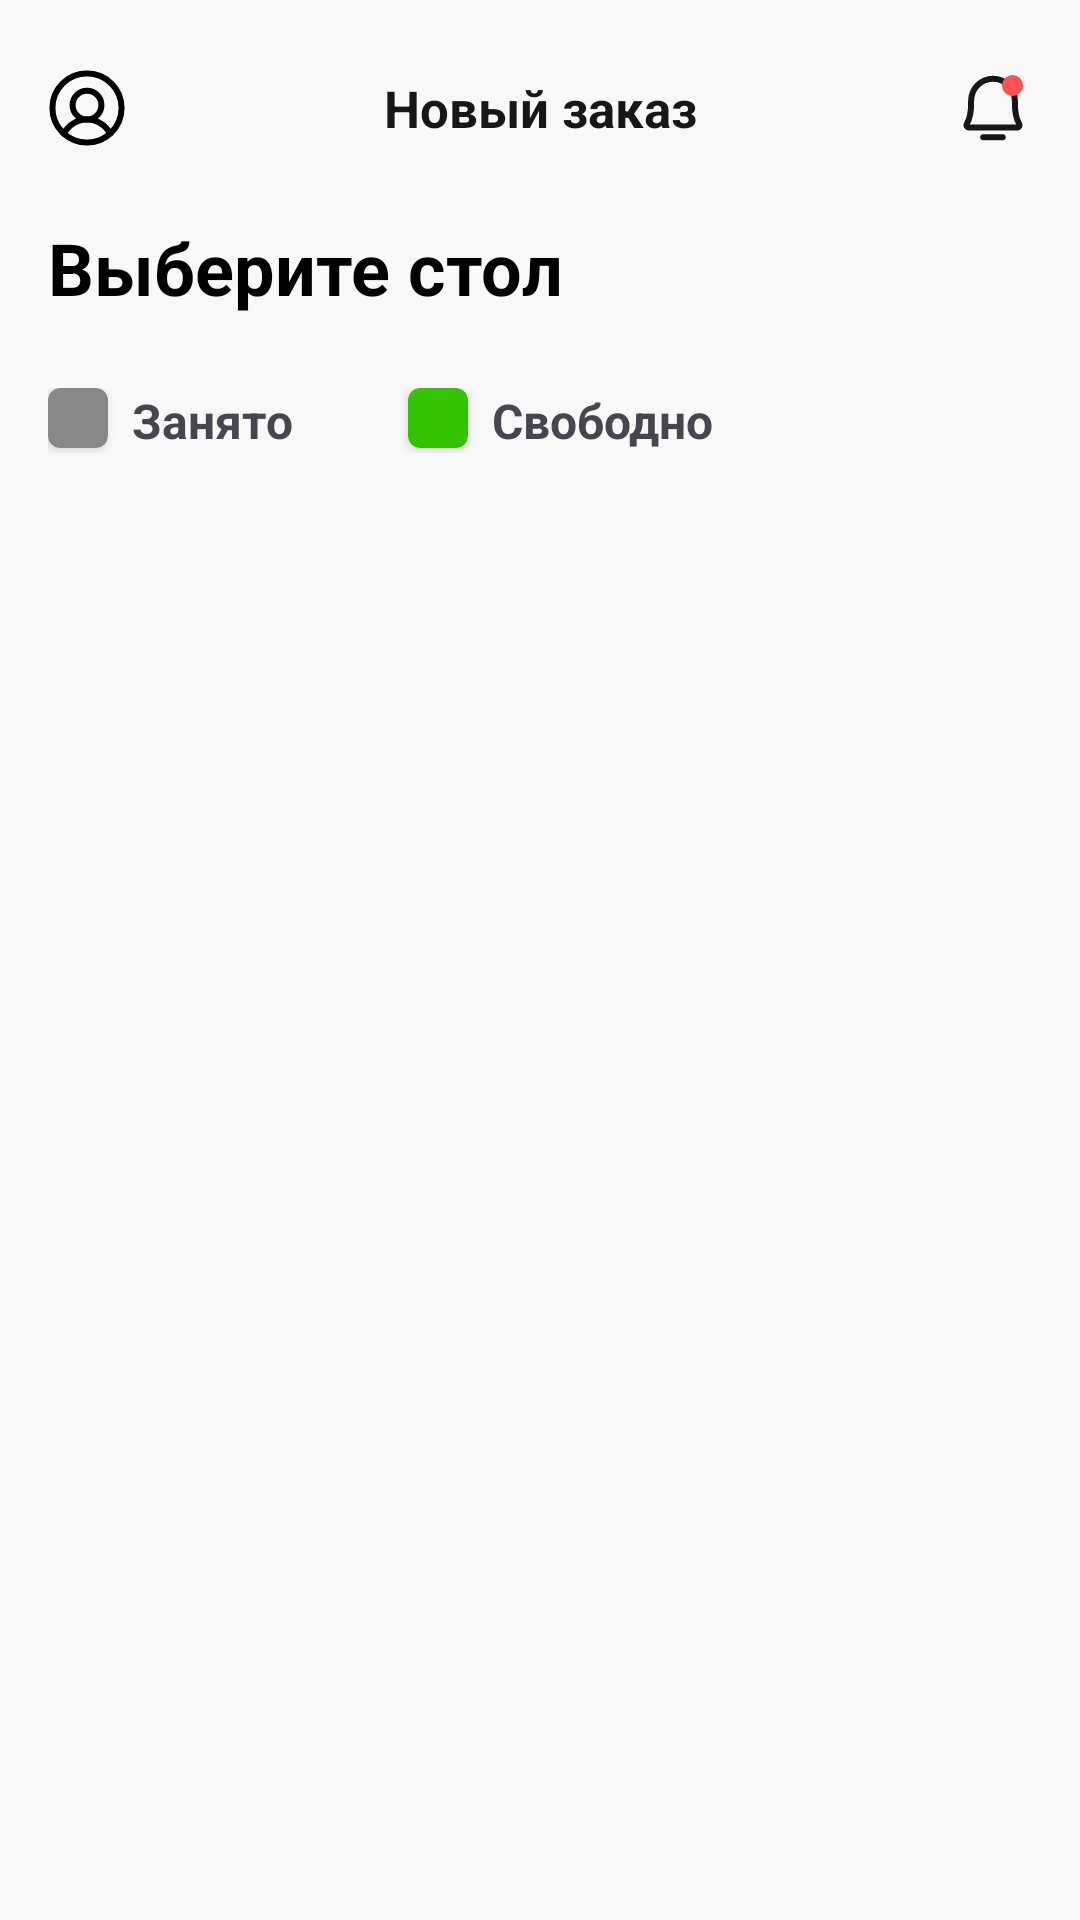

Named icons in this screenshot (1080×1920) and their centers, point (x, y):
notification: point (993, 108)
profile: point (87, 108)
